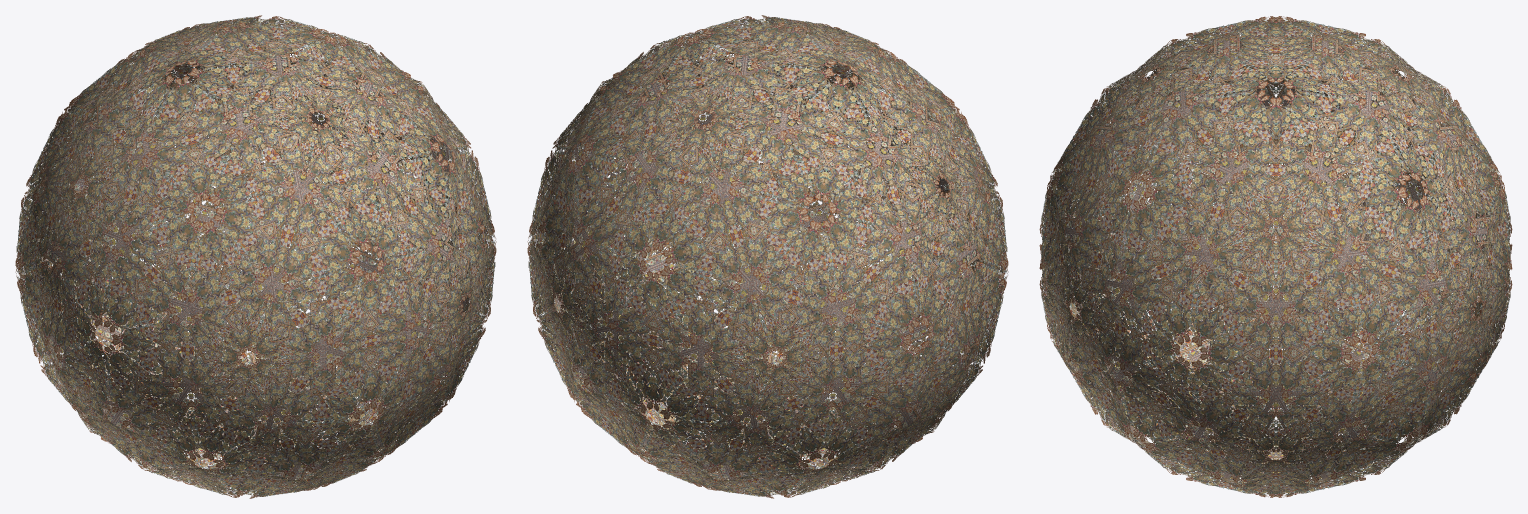
File: SmallHexagonalHexecontahedron10.gltf
3 views of the same model, side by side, from view 1: azimuth 30°, elevation 25°; view 2: azimuth 150°, elevation 25°; view 3: azimuth 270°, elevation 25° (orthographic).
Visible parts, largest first — view 1: SmallHexagonalHexecontahedron; view 2: SmallHexagonalHexecontahedron; view 3: SmallHexagonalHexecontahedron.
Part boxes in pixels (x1=…): SmallHexagonalHexecontahedron: x1=15, y1=15, x2=496, y2=498; SmallHexagonalHexecontahedron: x1=527, y1=15, x2=1008, y2=498; SmallHexagonalHexecontahedron: x1=1039, y1=16, x2=1512, y2=497.
Size of the model in its own units: 2.73 by 2.73 by 2.73.
Materials: 1 (1 with a texture image).
